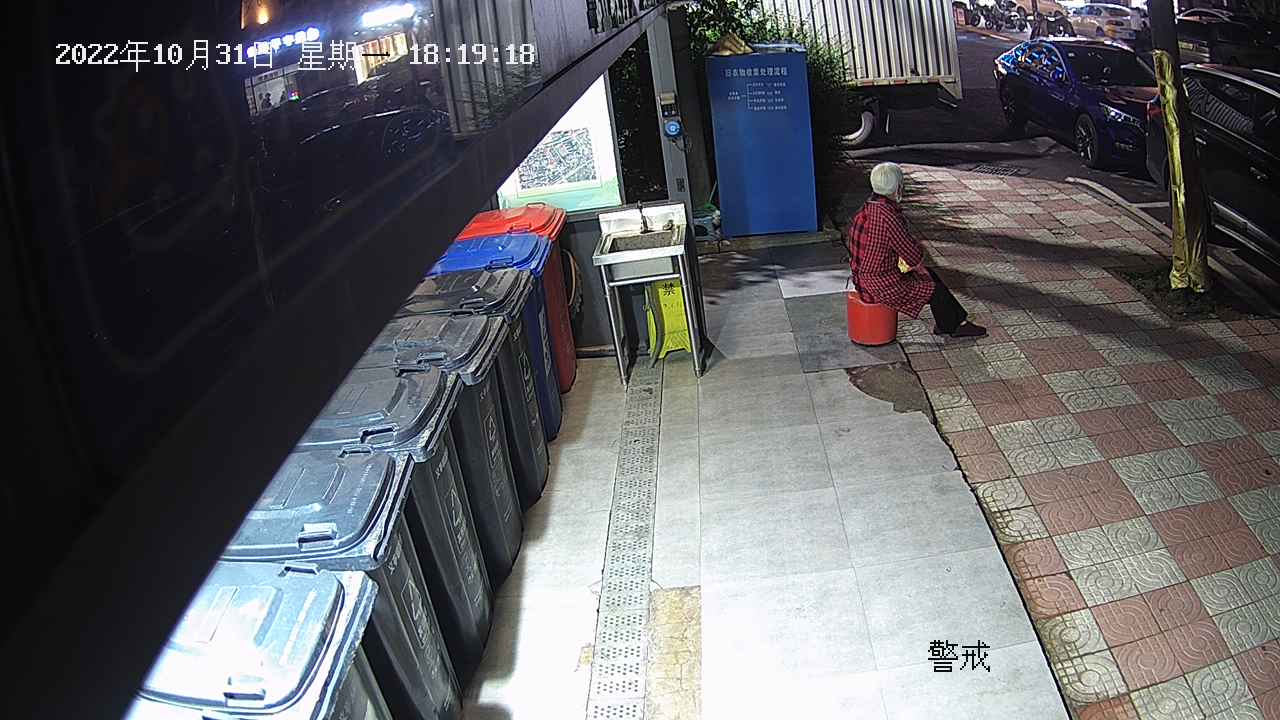person: (845, 161, 989, 339)
